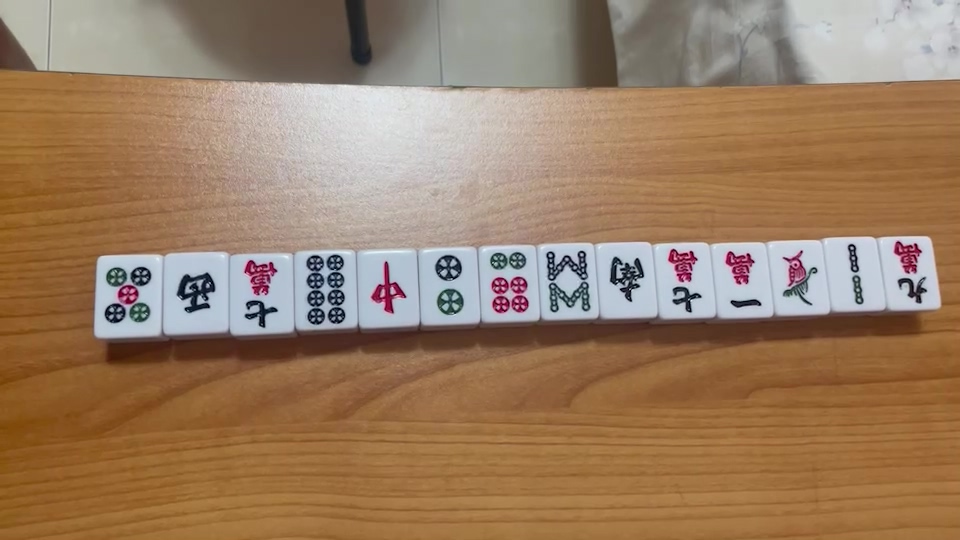b-1: (778, 246, 822, 310)
b-2: (840, 242, 869, 309)
b-8: (545, 248, 592, 313)
c-1: (720, 248, 766, 313)
c-7: (237, 256, 283, 331), (661, 244, 706, 318)
c-9: (890, 238, 933, 303)
d-2: (430, 252, 466, 318)
d-5: (103, 266, 153, 325)
d-6: (486, 251, 532, 315)
d-8: (302, 255, 346, 327)
honors-red: (365, 258, 409, 318)
honors-south: (604, 252, 647, 302)
honors-west: (173, 269, 218, 321)
